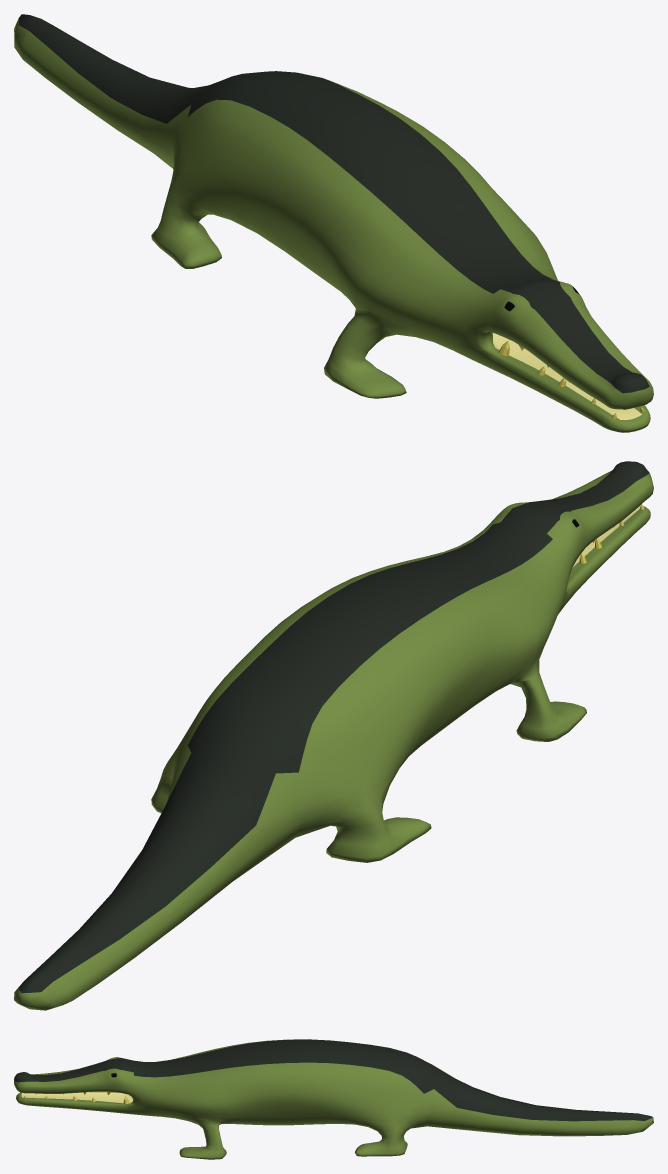
File: Aligator.fbx
3 views of the same model, one above another, from view 1: azimuth 30°, elevation 25°; view 2: azimuth 150°, elevation 25°; view 3: azimuth 270°, elevation 25° (orthographic). The views are drawn at different scales.
Visible parts, largest first — view 1: Cube.001; view 2: Cube.001; view 3: Cube.001.
Part boxes in pixels (<box>): Cube.001: <box>14,14,653,432</box>; Cube.001: <box>14,461,653,1010</box>; Cube.001: <box>14,1039,653,1159</box>.
Size of the model in its own units: 50.17 by 32.96 by 218.
